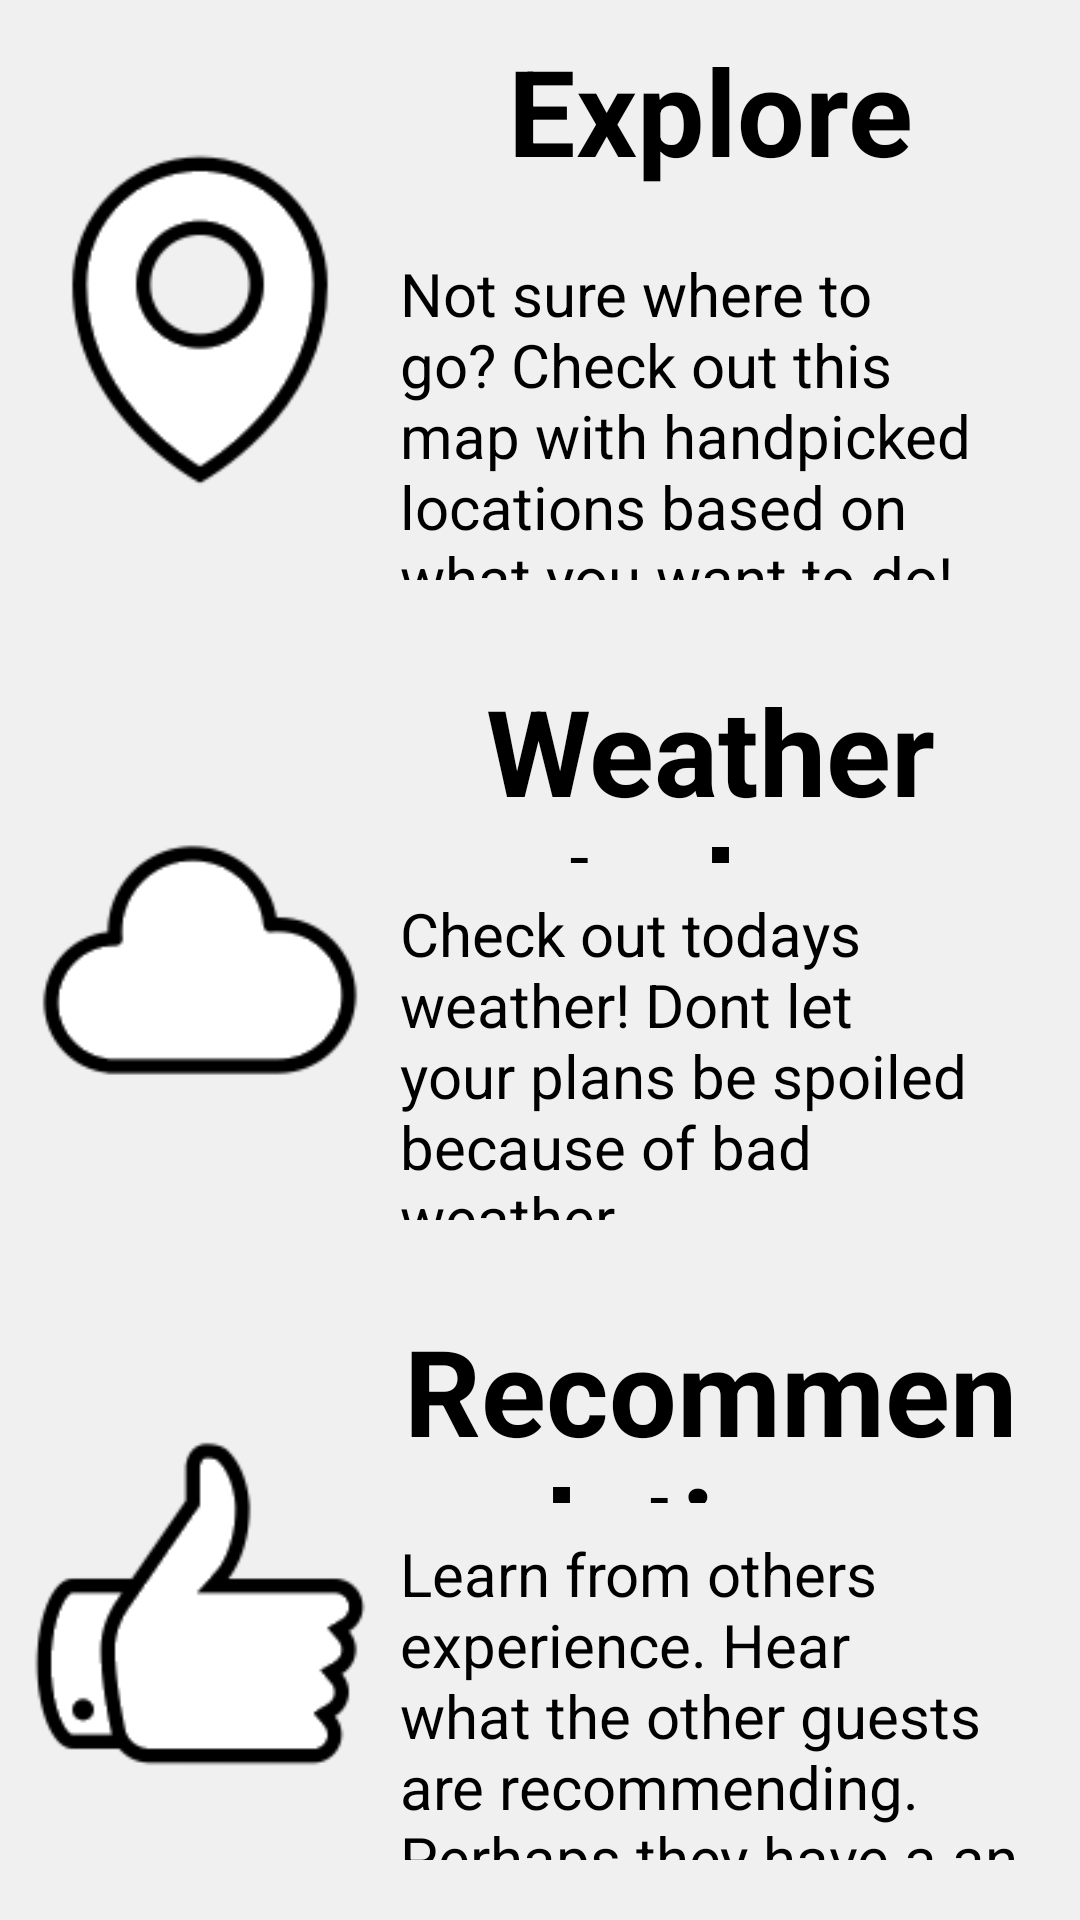

Point at icon controls on the screen. Image size 1080 x 1920, points as (x=x, y=y).
cloud: (x=200, y=960)
location pin: (x=200, y=319)
thumbs up: (x=200, y=1603)
